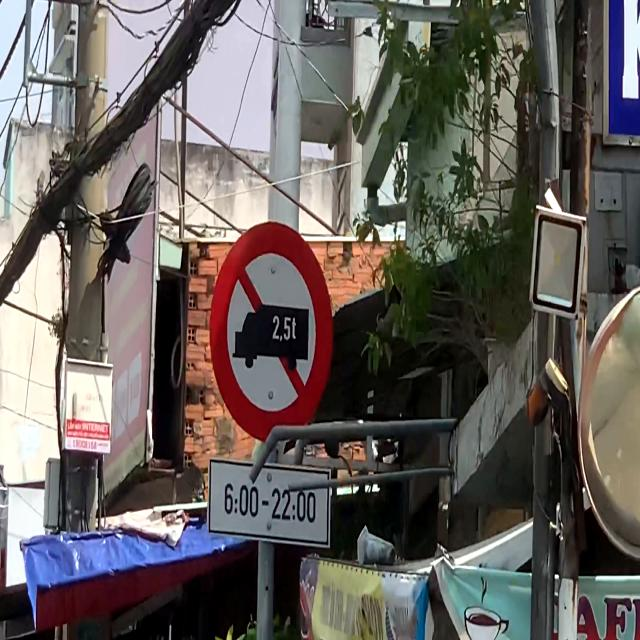P.106b: (208, 214, 332, 450)
